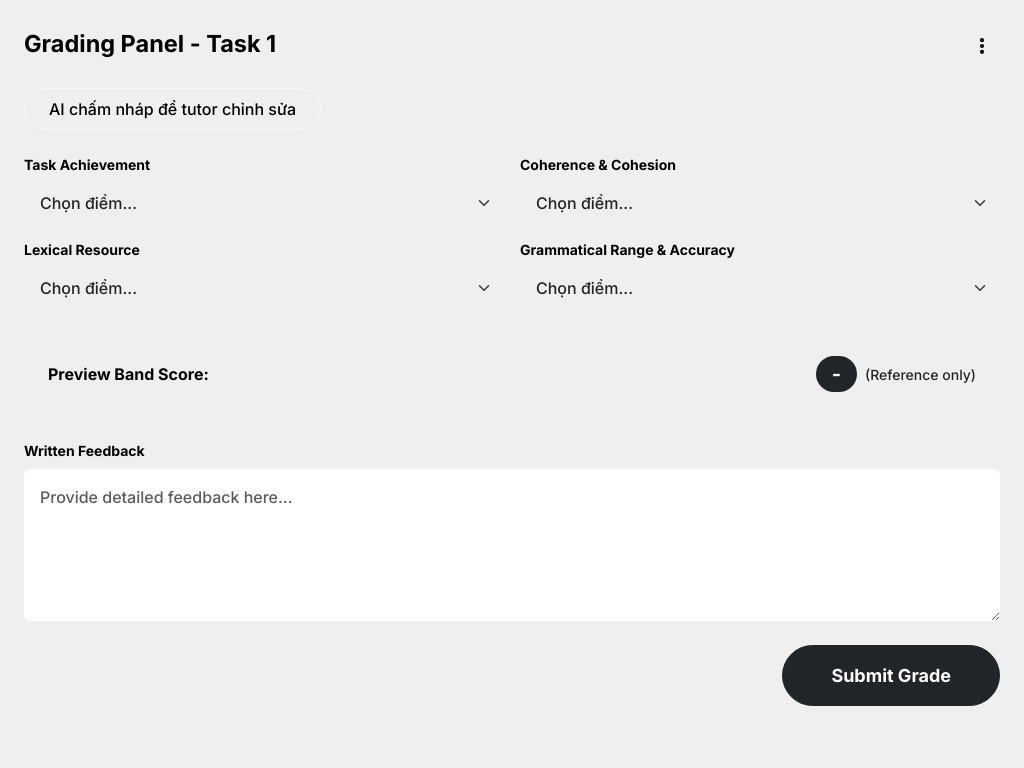
it: TutorGradingPanel Component › Prelim Check › runs prelim check for the active writing task
The image size is (1024, 768).
Click the button "AI chấm nháp để tutor chỉnh sửa" at (173, 109), box [24,88,321,130]
(page scrolled)
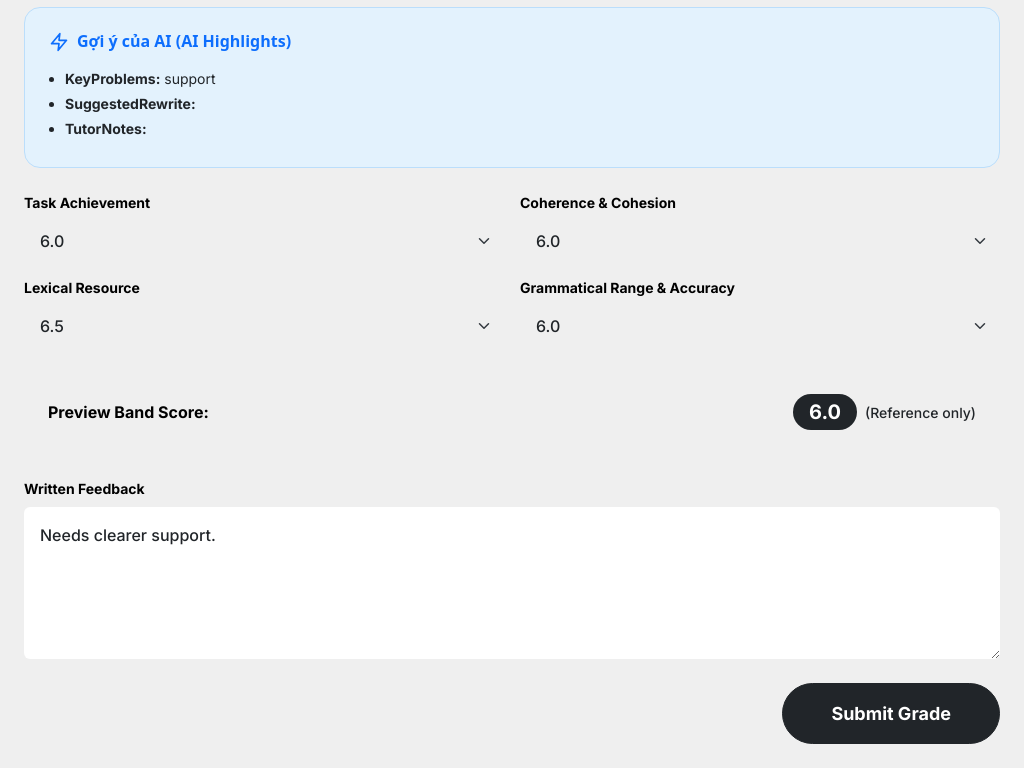
Expected: the text box with test id "textarea-feedback" holds "Needs clearer support.", [24,507,1000,659]
